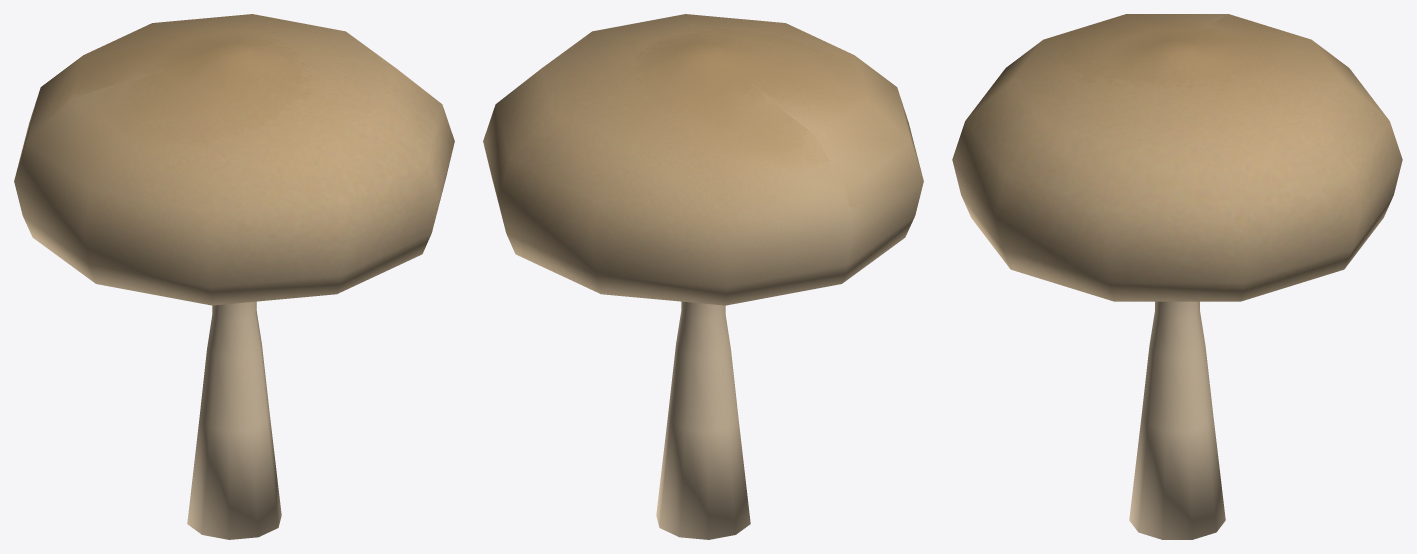
Rendered from shroomSmall.fbx.
The picture shows the model from 3 angles, left to right: view 1: azimuth 30°, elevation 25°; view 2: azimuth 150°, elevation 25°; view 3: azimuth 270°, elevation 25°; orthographic projection.
Parts seen in each view (by area): view 1: small shroom; view 2: small shroom; view 3: small shroom.
Boxes of the visible parts, left/top/right/bottom form: small shroom: left=14, top=14, right=454, bottom=539; small shroom: left=483, top=14, right=923, bottom=539; small shroom: left=952, top=14, right=1402, bottom=539.
Size of the model in its own units: 65.62 by 79.04 by 68.42.
